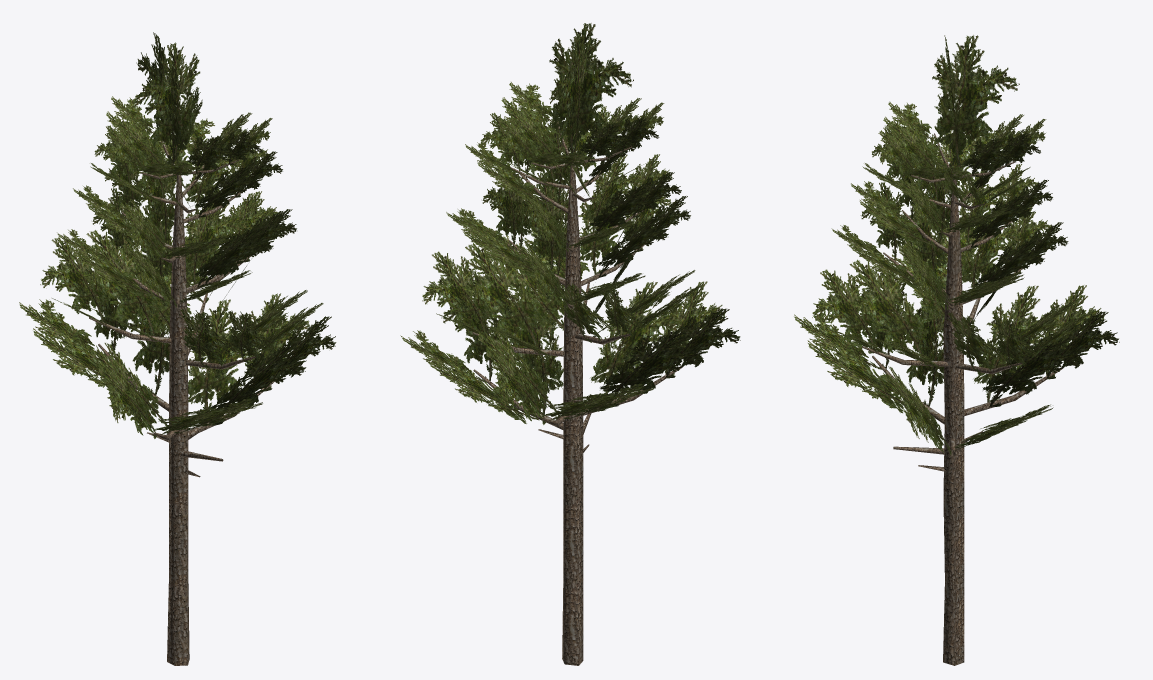
Rendered from pineB1.FBX.
3 views of the same model, side by side, from view 1: azimuth 30°, elevation 25°; view 2: azimuth 150°, elevation 25°; view 3: azimuth 270°, elevation 25° (orthographic). The views are drawn at different scales.
Visible parts, largest first — view 1: Cylinder001; view 2: Cylinder001; view 3: Cylinder001.
Boxes of the visible parts, x1,y1,x2,y2 form: Cylinder001: (19, 32, 336, 665); Cylinder001: (400, 23, 740, 665); Cylinder001: (794, 35, 1119, 665).
Size of the model in its own units: 18.82 by 38.36 by 19.56.
